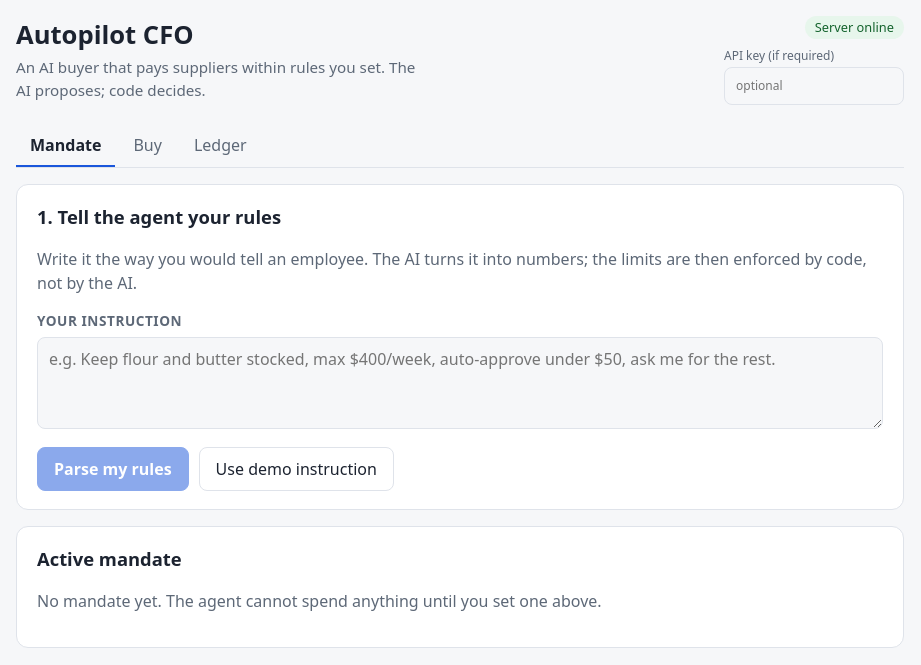
Test case: App tabs › opens the ledger tab on demand
Click the button "Ledger": {"x": 220, "y": 146} 180,125 -> 261,167
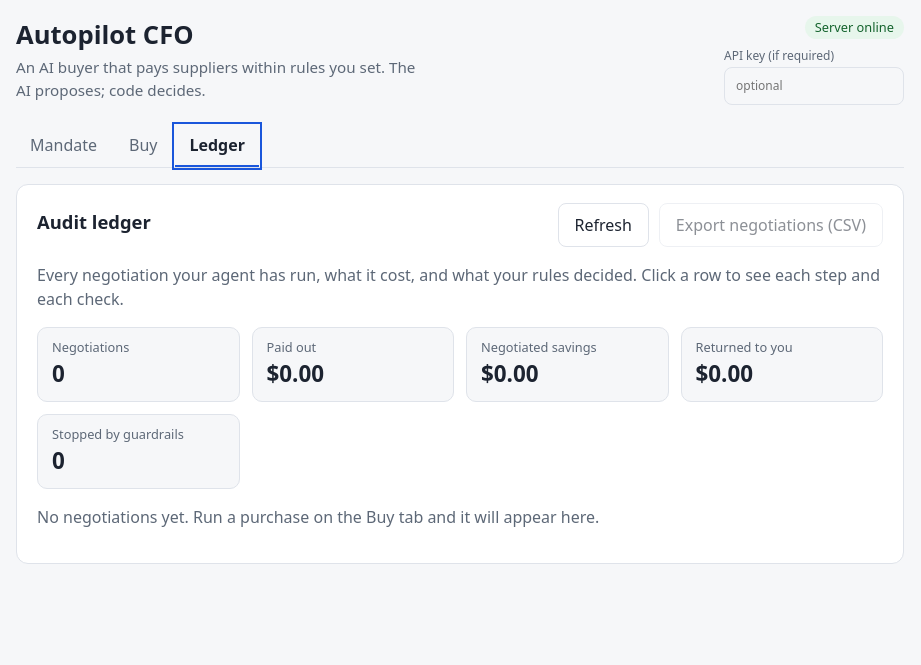
Expected: the text "No negotiations yet" is shown, 37,506 -> 599,528
Expected: the heading "Audit ledger" is shown, 37,208 -> 151,236
